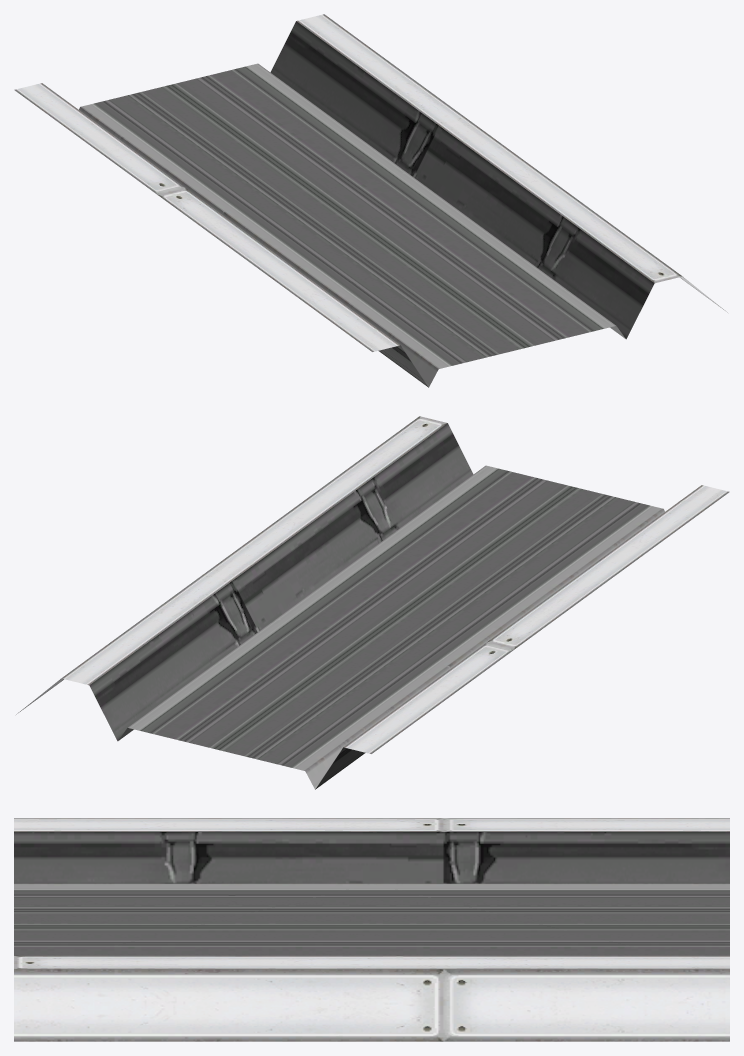
File: Ground_Trim_2x4.FBX
3 renders of one model, top to bottom at view 1: azimuth 30°, elevation 25°; view 2: azimuth 150°, elevation 25°; view 3: azimuth 270°, elevation 25°, orthographic.
Visible parts, largest first — view 1: Ground_Trim_2x4; view 2: Ground_Trim_2x4; view 3: Ground_Trim_2x4.
Part boxes in pixels (<box>): Ground_Trim_2x4: <box>14,14,727,387</box>; Ground_Trim_2x4: <box>16,416,729,789</box>; Ground_Trim_2x4: <box>14,818,729,1041</box>.
Bounding box in the file's own units: 1.15 × 0.152 × 2.
